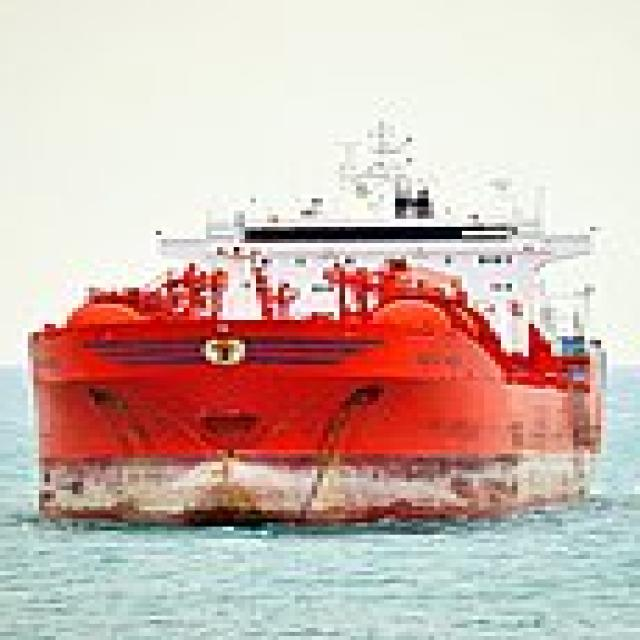Tanker: (33, 89, 612, 527)
